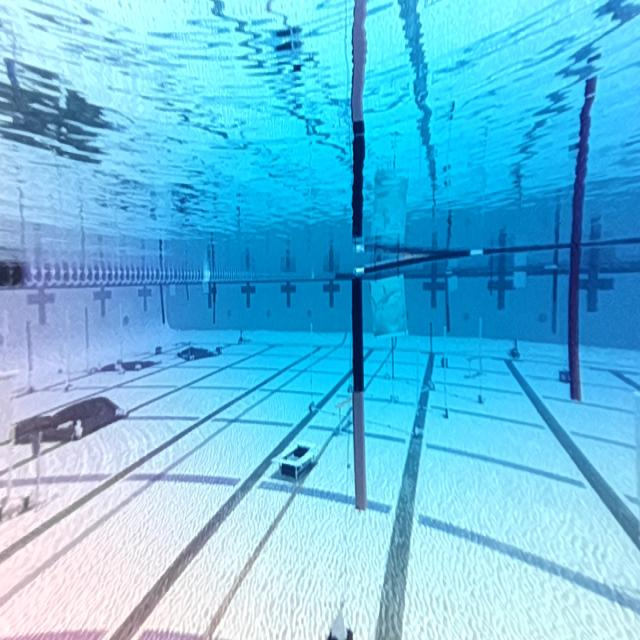round_nose: (366, 277, 416, 329)
